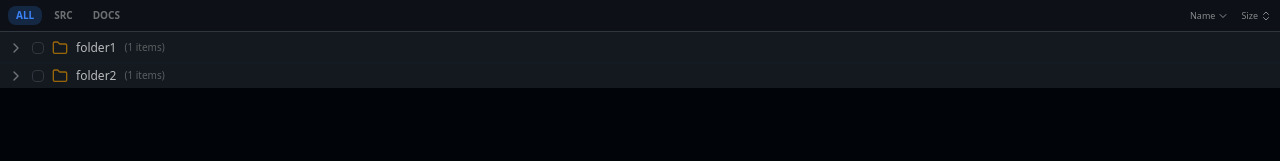
Test: FileTree Hierarchy › Multiple root directories › should maintain independent expansion state for each folder
Expected: the text "folder1" is shown, [76, 38, 116, 56]
Expected: the text "folder2" is shown, [76, 66, 116, 84]
// Expand folder1 first
Click the button with test id "expand-icon" next to "folder1".
click(16, 48)  # box [6, 38, 26, 58]
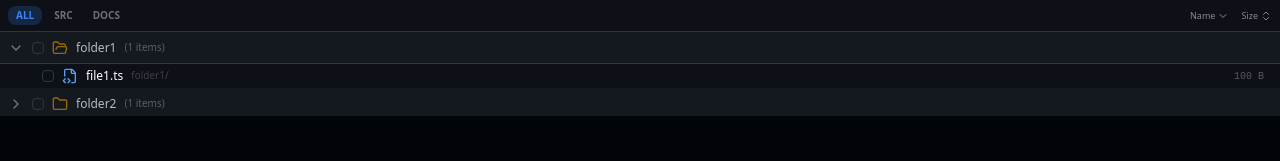
Now the text "file1.ts" is shown, box [86, 66, 123, 84]
Click the 2nd button with test id "expand-icon".
click(16, 104)  # box [6, 94, 26, 114]
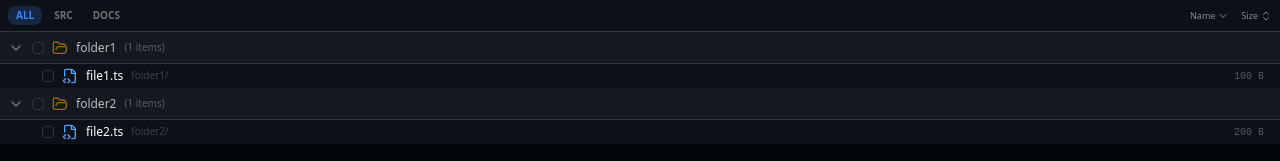
Now the text "file2.ts" is shown, box [86, 122, 123, 140]
Click the 1st button with test id "expand-icon".
click(16, 48)  # box [6, 38, 26, 58]
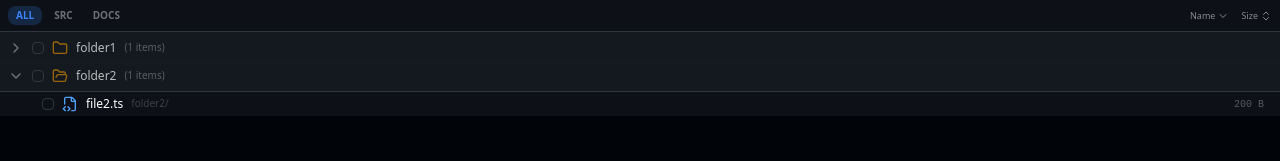
Now the text "file2.ts" is shown, box [86, 94, 123, 112]
Now the text "file1.ts" is gone
